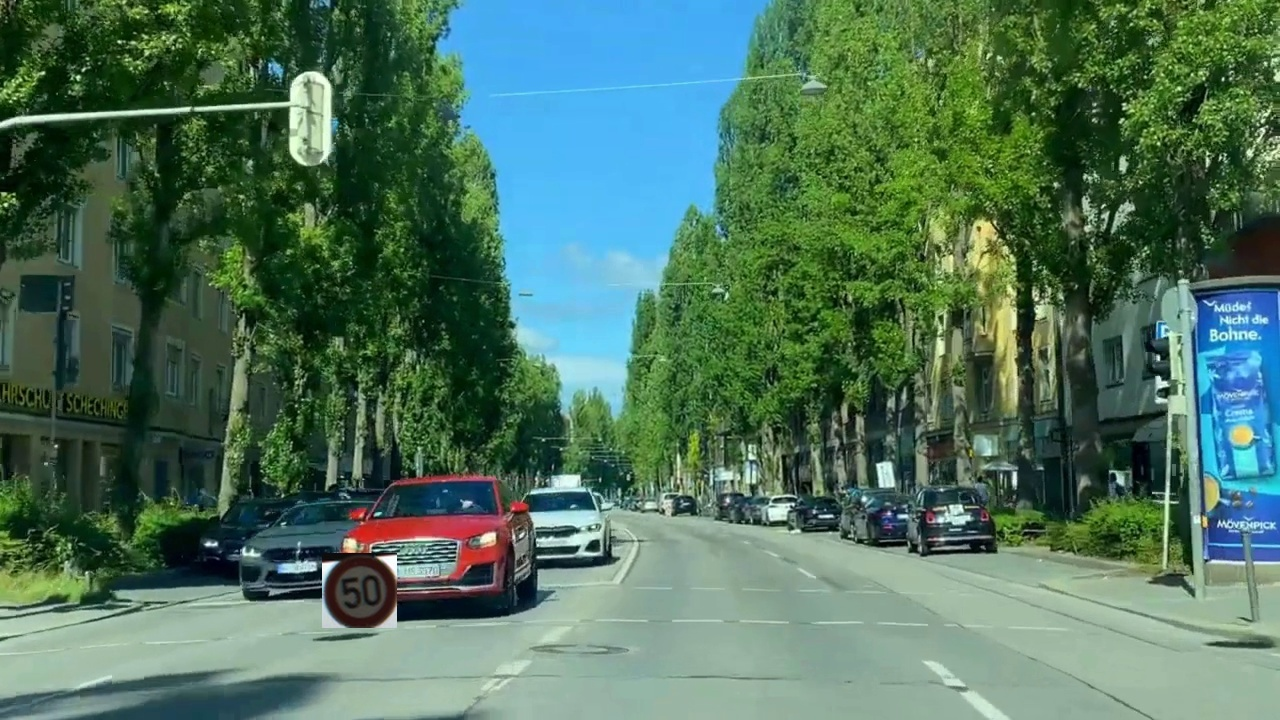Speed 50: (322, 553, 397, 628)
